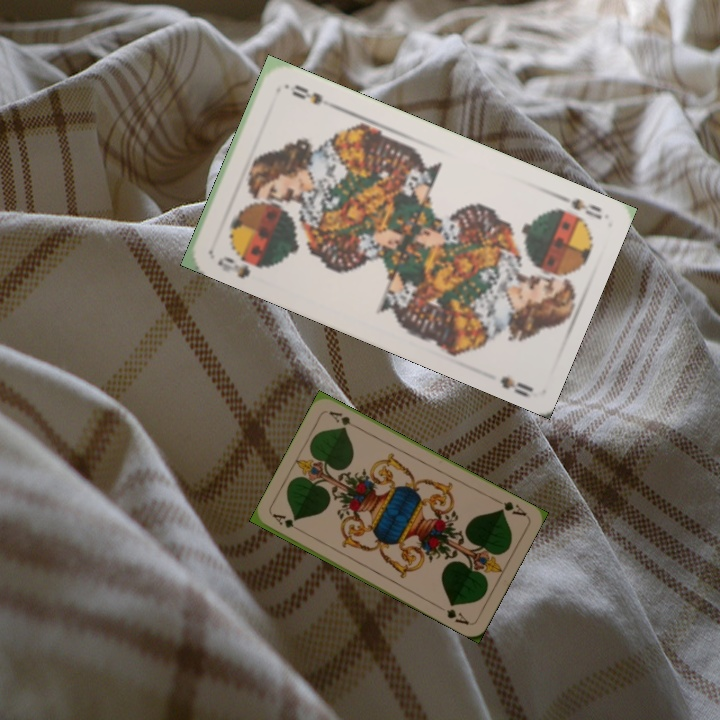GA: (269, 510, 306, 536), (491, 495, 529, 519)
SO: (550, 189, 605, 222), (213, 252, 253, 281)
